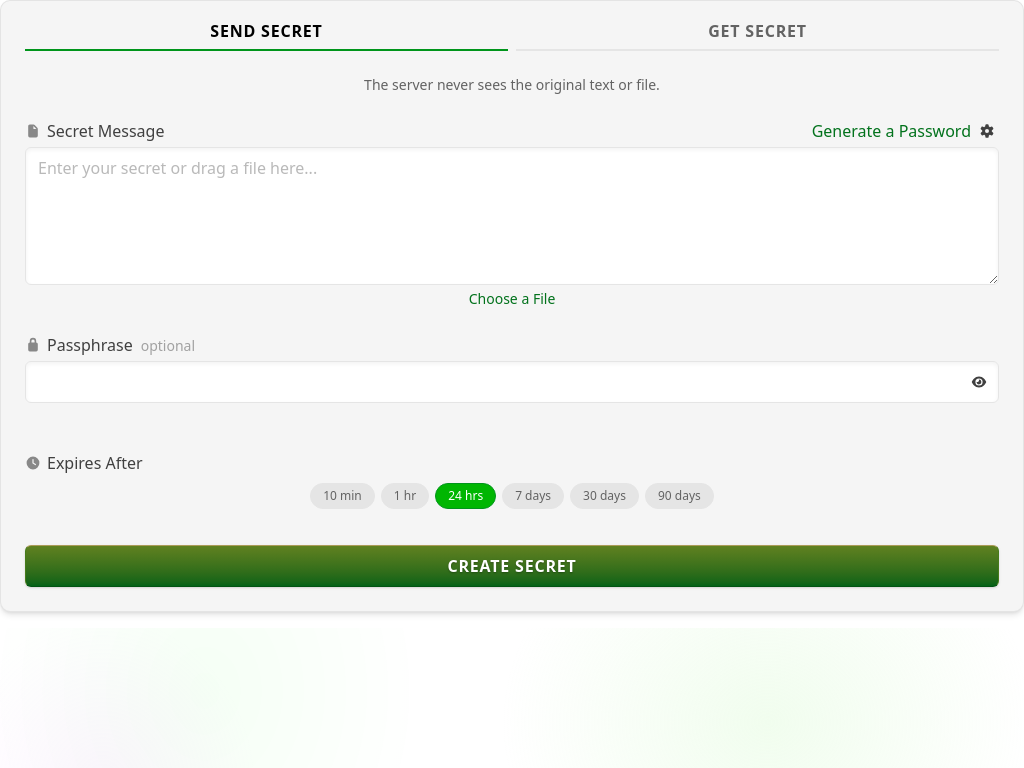
Test: SendPage › uses modal settings and keeps modal open after generation
Click the button named "Password generator settings".
click(987, 131)  # box x1=975 y1=119 x2=999 y2=143
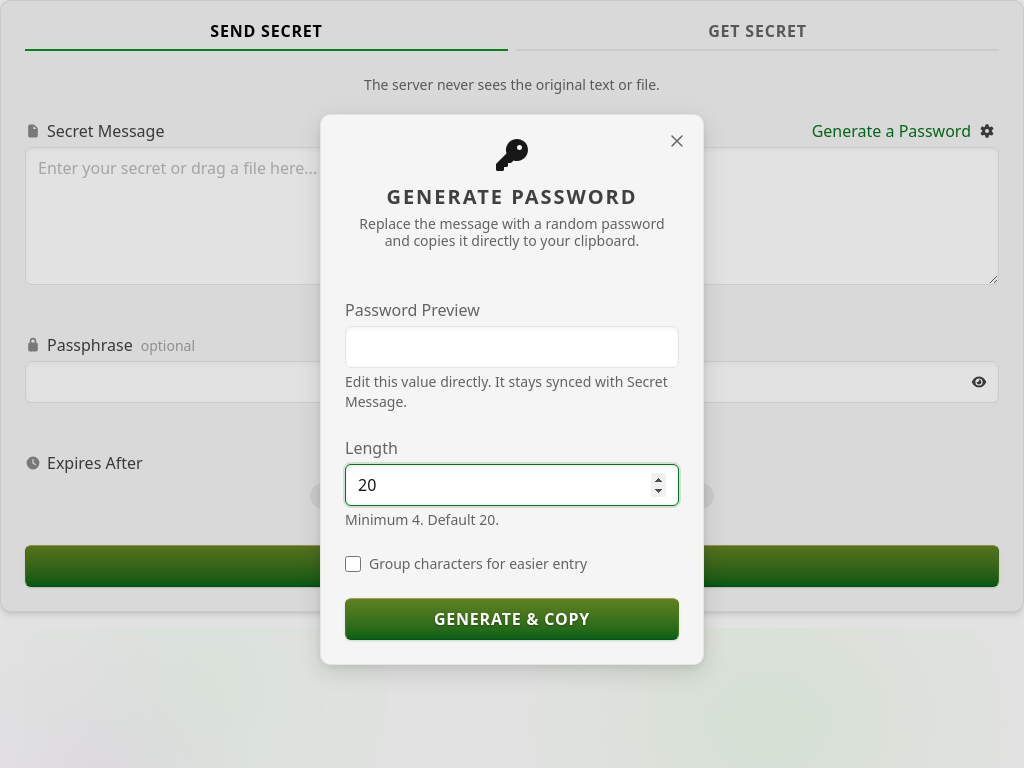
Now the heading "Generate Password" is shown, box x1=359 y1=135 x2=665 y2=262
Replace the text in the number field labelled "Length" with "32" at x=512, y=485, box x1=345 y1=464 x2=679 y2=506
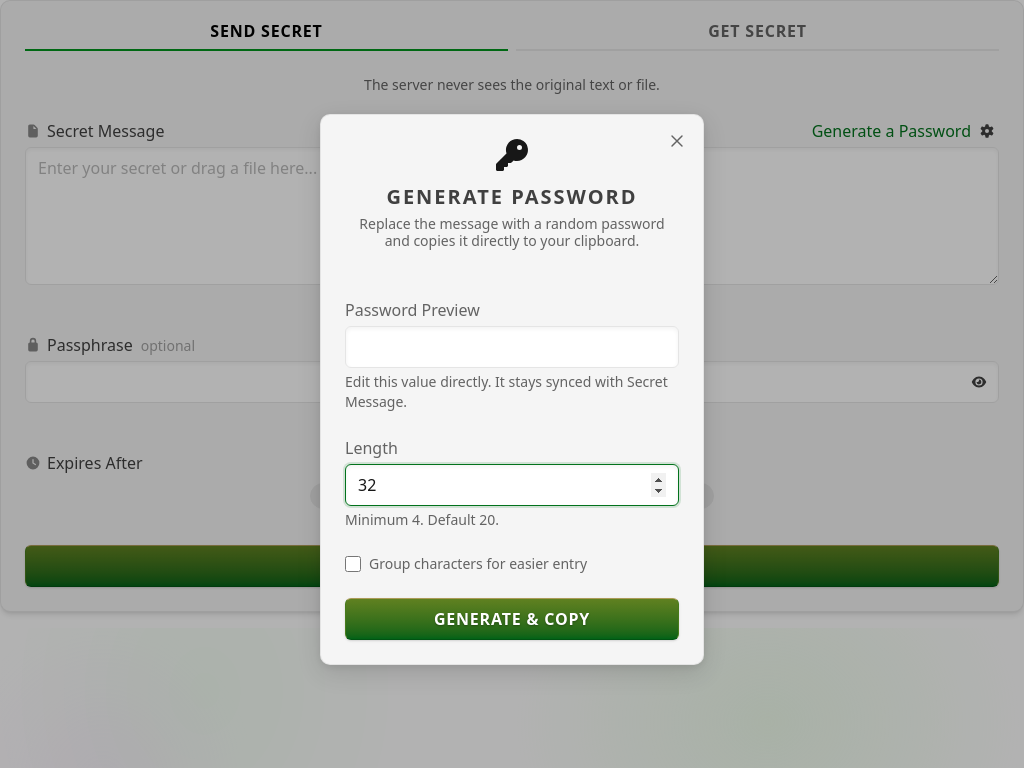
Click the checkbox labelled "Group characters for easier entry".
click(353, 564)  # box x1=345 y1=556 x2=361 y2=572
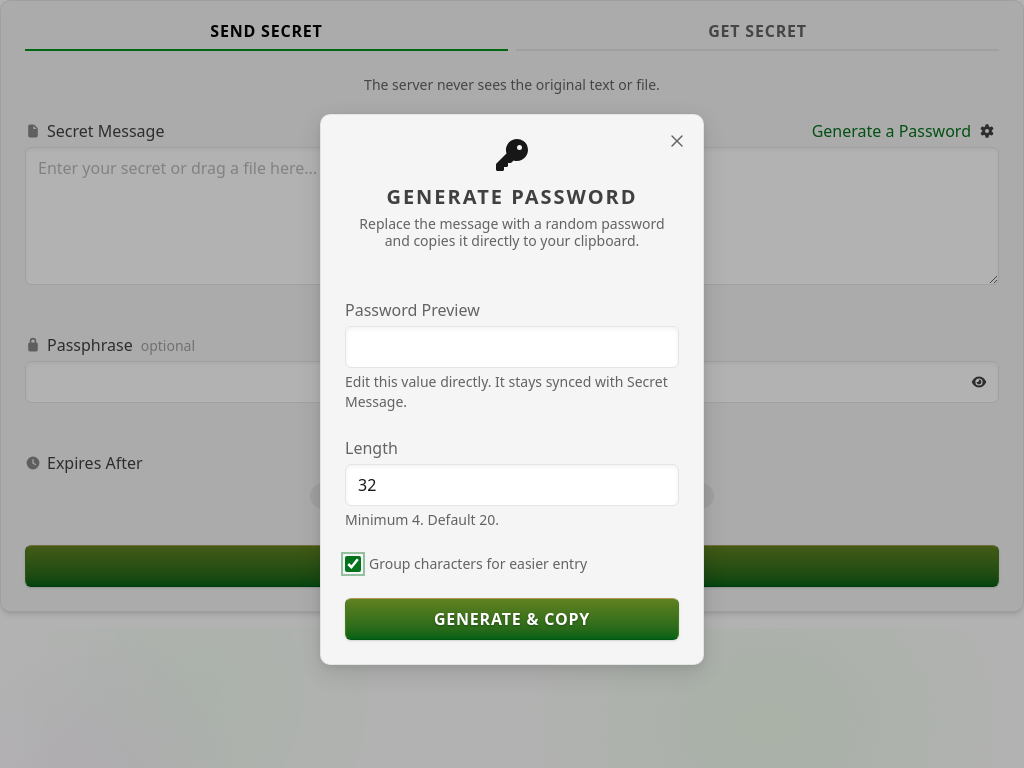
Click the button "Generate & copy".
click(512, 619)  # box x1=345 y1=598 x2=679 y2=640
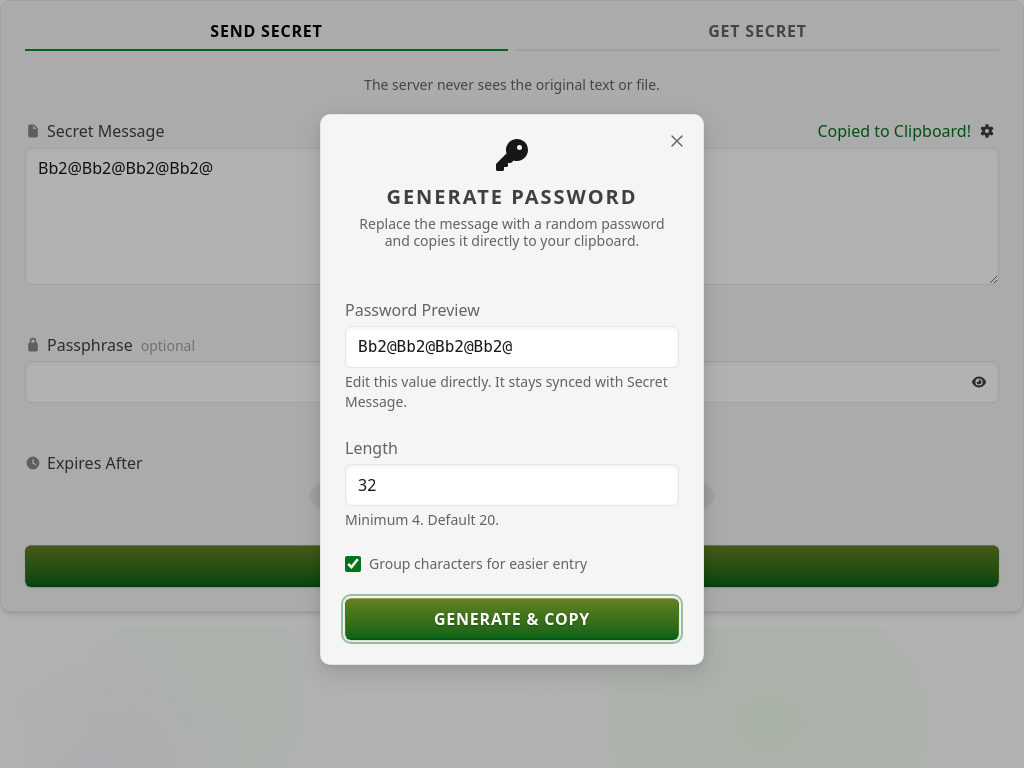
Now the heading "Generate Password" is shown, box x1=359 y1=135 x2=665 y2=262
Now the field labelled "Password Preview" holds "Bb2@Bb2@Bb2@Bb2@", box x1=345 y1=326 x2=679 y2=368
Now the text box with placeholder "Enter your secret or drag a file here..." holds "Bb2@Bb2@Bb2@Bb2@", box x1=25 y1=147 x2=999 y2=285
Click the button "Generate & copy".
click(512, 619)  # box x1=345 y1=598 x2=679 y2=640
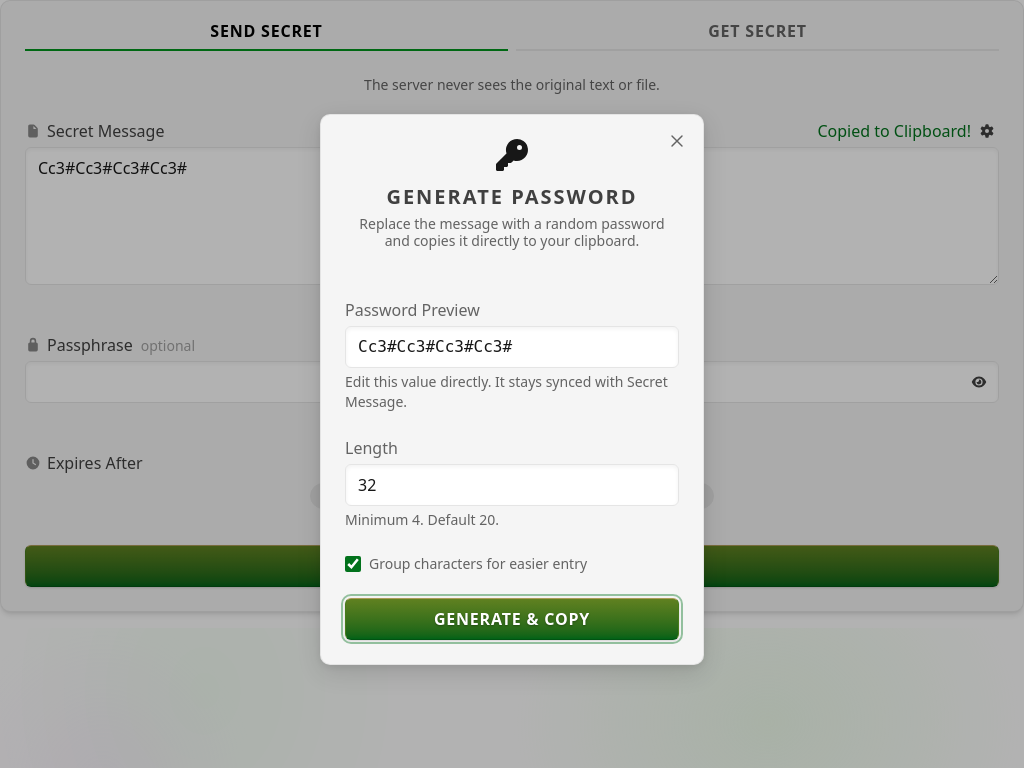
Now the field labelled "Password Preview" holds "Cc3#Cc3#Cc3#Cc3#", box x1=345 y1=326 x2=679 y2=368
Now the text box with placeholder "Enter your secret or drag a file here..." holds "Cc3#Cc3#Cc3#Cc3#", box x1=25 y1=147 x2=999 y2=285
